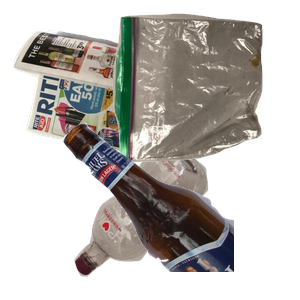glass: (60, 120, 300, 300)
paper: (11, 27, 213, 185)
plastic: (72, 142, 273, 300)
trash: (110, 11, 300, 167)
